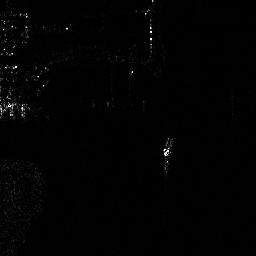ship: (161, 133, 173, 157)
